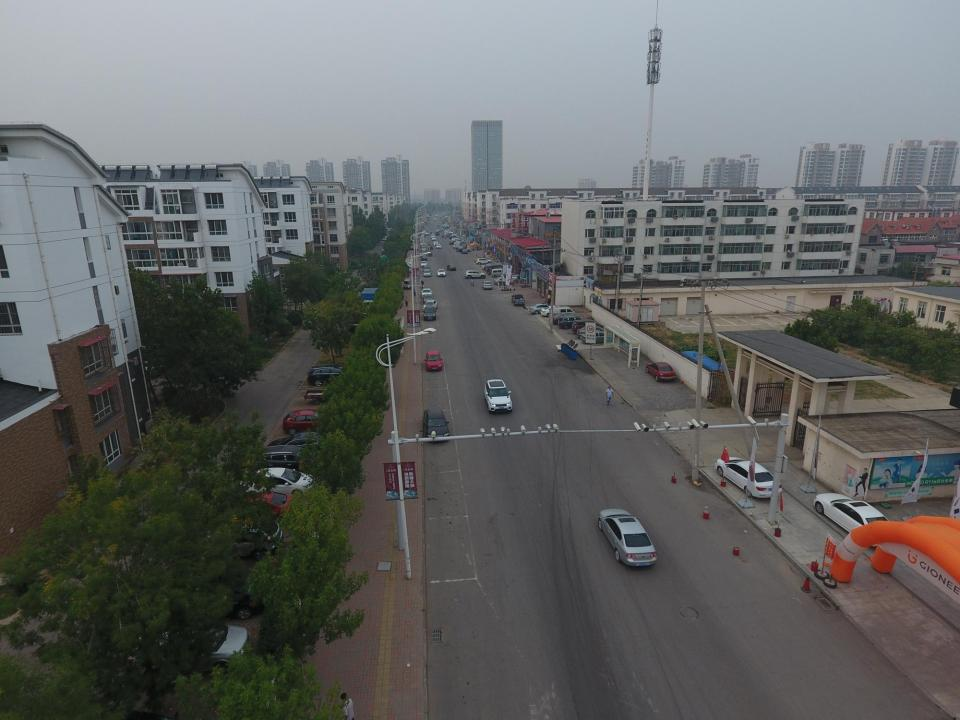car: (125, 622, 251, 676), (153, 577, 266, 618), (813, 492, 895, 546), (185, 518, 284, 561), (598, 507, 657, 566), (210, 492, 296, 527), (715, 456, 782, 498), (238, 468, 318, 496), (283, 407, 338, 436), (254, 446, 320, 470), (268, 433, 332, 454), (306, 364, 354, 389), (484, 379, 513, 413), (422, 409, 451, 441), (646, 362, 677, 382), (422, 350, 444, 370), (580, 332, 612, 344), (572, 319, 601, 332), (560, 316, 585, 329), (576, 327, 608, 337), (422, 304, 437, 322), (528, 303, 552, 314), (552, 313, 572, 325), (463, 270, 486, 279), (540, 306, 560, 316), (493, 276, 517, 284), (484, 265, 505, 272), (422, 300, 438, 309), (500, 272, 520, 279), (420, 288, 433, 297), (481, 264, 500, 270), (476, 258, 492, 265), (423, 294, 434, 303), (436, 268, 446, 277), (482, 281, 492, 290), (446, 264, 456, 271), (423, 269, 431, 277), (452, 244, 463, 249), (422, 266, 431, 272), (420, 261, 428, 267), (420, 255, 427, 261), (436, 243, 442, 249), (457, 248, 466, 252), (433, 240, 438, 246), (462, 248, 467, 254), (431, 237, 436, 242), (381, 237, 387, 241), (430, 234, 436, 238)
truck: (511, 292, 525, 307)
van: (549, 306, 576, 318), (490, 268, 506, 278), (403, 279, 411, 288)
